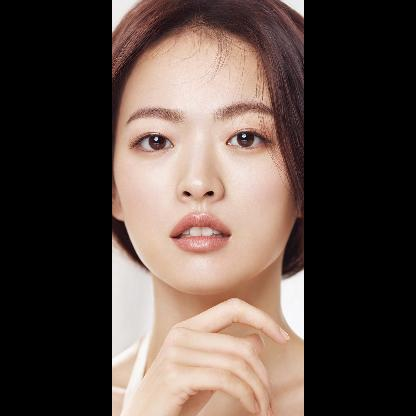Female: (112, 23, 302, 292)
